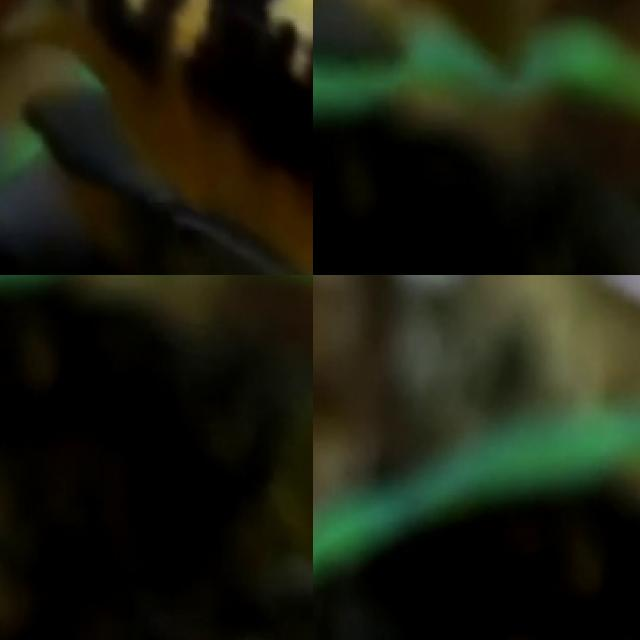fish: (0, 0, 313, 275), (529, 275, 640, 467)
